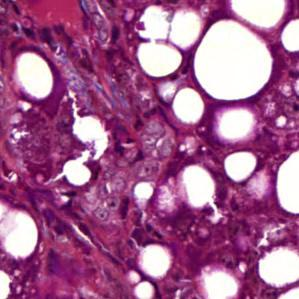steatosis: (195, 23, 273, 100), (15, 53, 54, 101), (168, 88, 206, 125), (225, 152, 257, 184)
